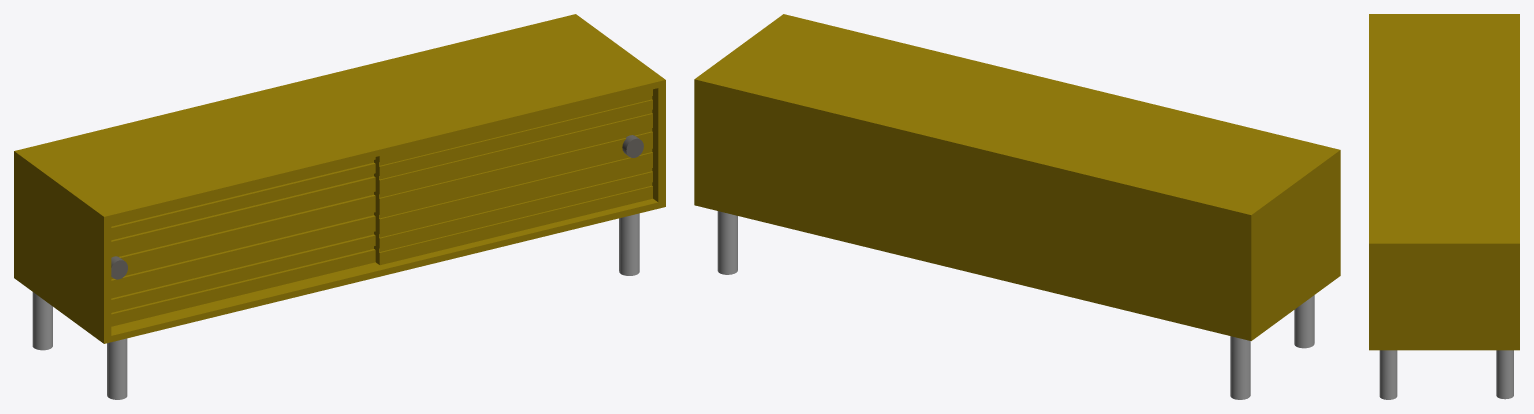
The model's file is TVBench.fbx.
3 views of the same model, side by side, from view 1: azimuth 30°, elevation 25°; view 2: azimuth 150°, elevation 25°; view 3: azimuth 270°, elevation 25° (orthographic). The views are drawn at different scales.
Parts seen in each view (by area): view 1: TV_Bench_High; view 2: TV_Bench_High; view 3: TV_Bench_High.
Boxes of the visible parts, <box> form: TV_Bench_High: <box>14,14,665,399</box>; TV_Bench_High: <box>694,14,1340,399</box>; TV_Bench_High: <box>1369,14,1519,399</box>.
Size of the model in its own units: 2.17 by 0.7175 by 0.6026.
